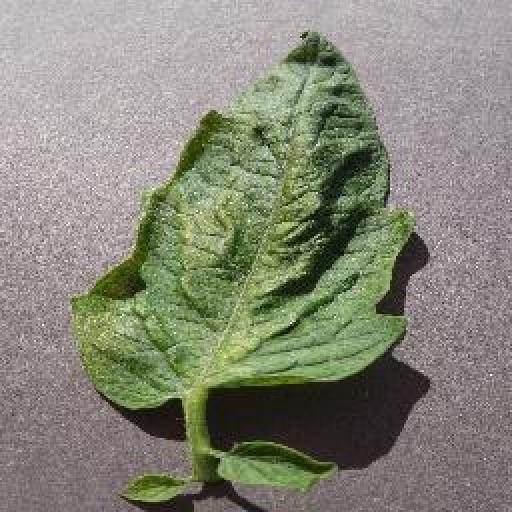disease_tomato: (71, 31, 413, 408)
